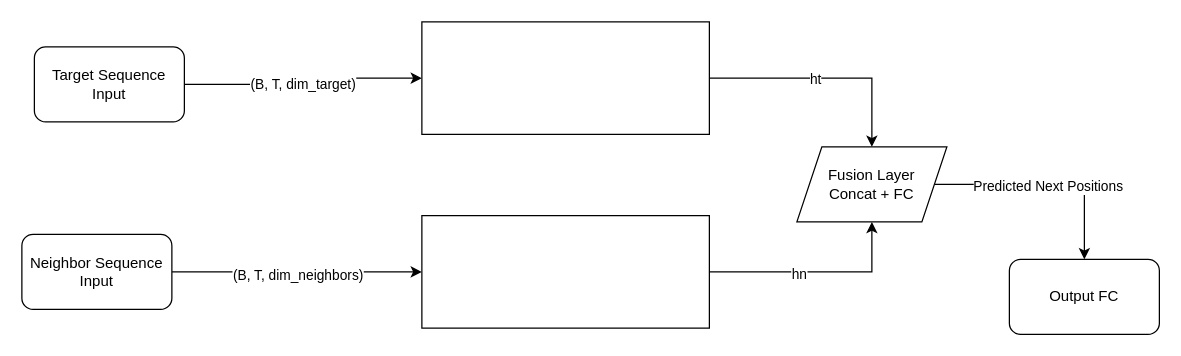
The diagram is 1181 pixels wide and 356 high, and some of its shapes have lost their labels. Here are the shapes that lost their labels. From the top down, the box of each, then its label:
(421, 21, 709, 134): Target LSTM Encoder
(421, 214, 709, 328): Neighbor LSTM Encoder
